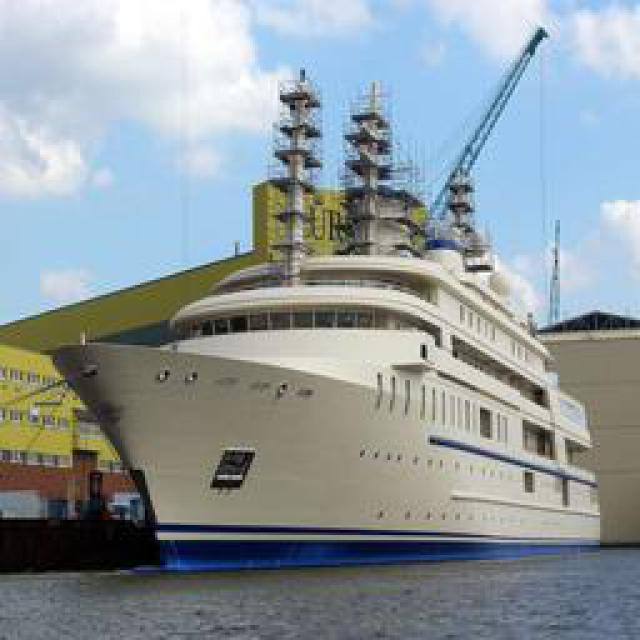Ship: (44, 62, 597, 560)
